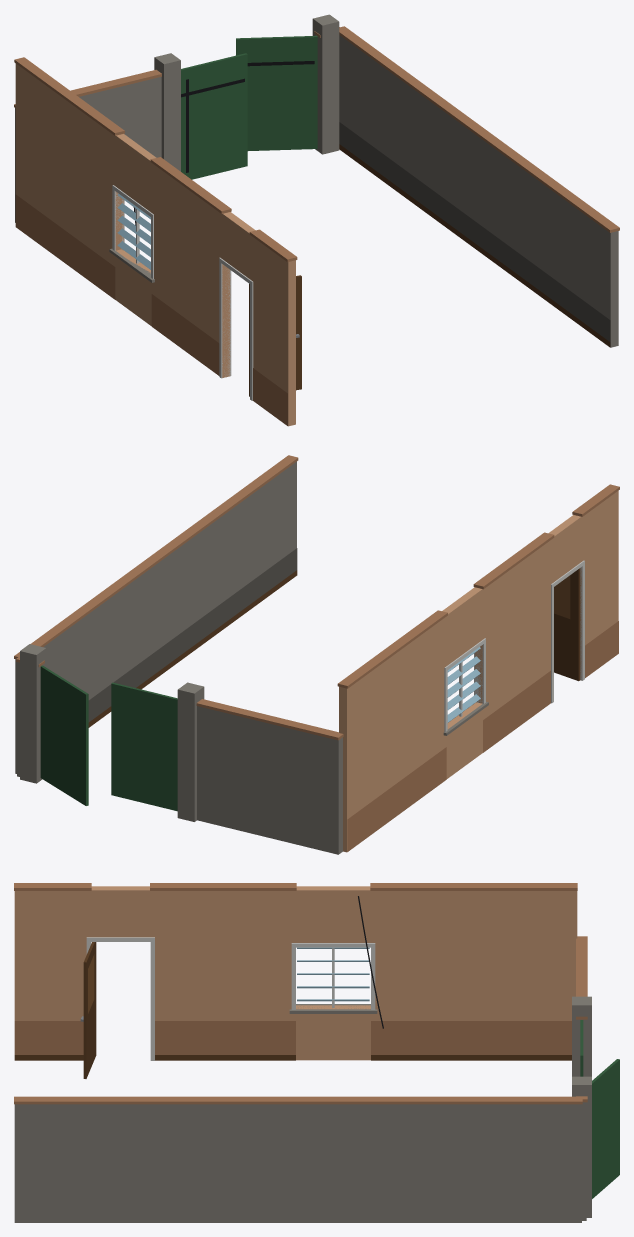
File: bld_home-family-yard.glb
3 renders of one model, top to bottom at view 1: azimuth 30°, elevation 25°; view 2: azimuth 150°, elevation 25°; view 3: azimuth 270°, elevation 25°, orthographic. The views are drawn at different scales.
Parts seen in each view (by area): view 1: body; view 2: body; view 3: body.
Boxes of the visible parts, x1,y1,x2,y2 form: body: (14, 14, 619, 426); body: (14, 455, 619, 854); body: (14, 883, 619, 1222).
Size of the model in its own units: 6.38 by 3.05 by 9.69.
